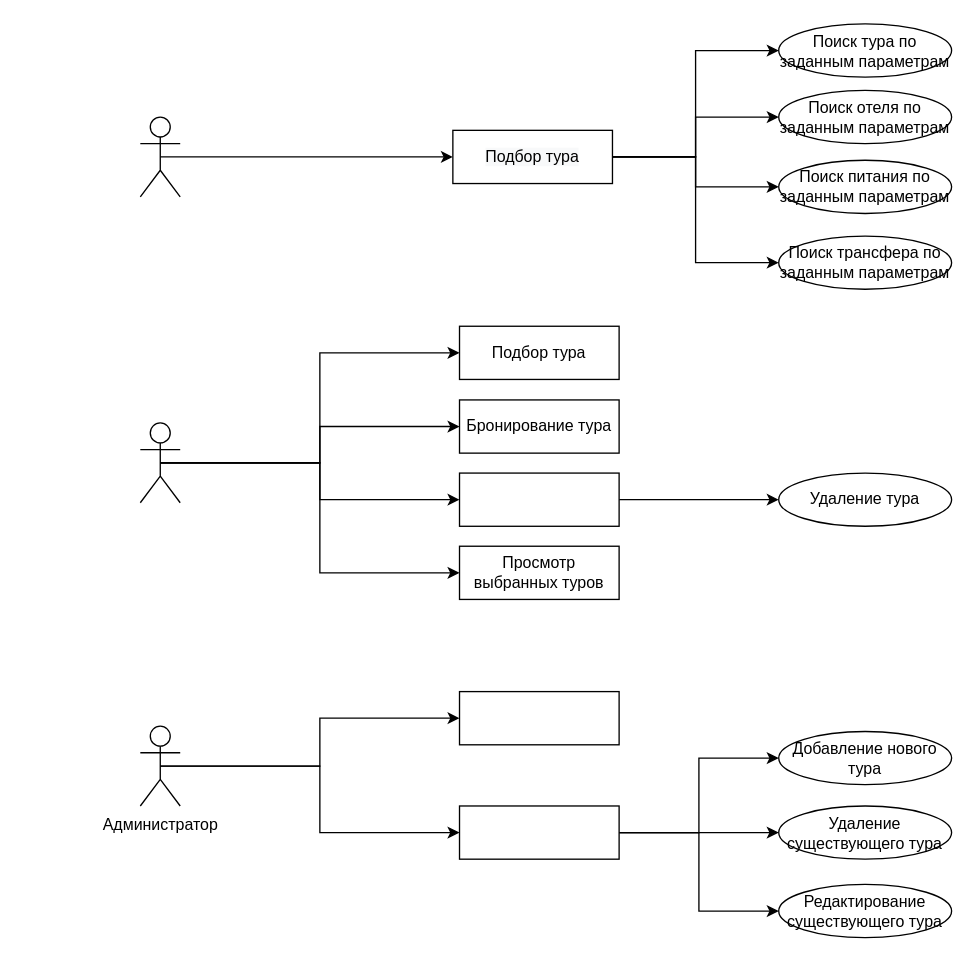
The diagram is 975 pixels wide and 960 high, and some of its shapes have lost their labels. The centre of each missing label's shape, as x and y in pixels:
Гость (неавторизированный пользователь): (x=159, y=156)
Изменение тура: (x=538, y=832)
Просмотр информации о турах: (x=538, y=717)
Турист (авторизированный пользователь): (x=159, y=462)
Управление выбранным туром: (x=538, y=499)
